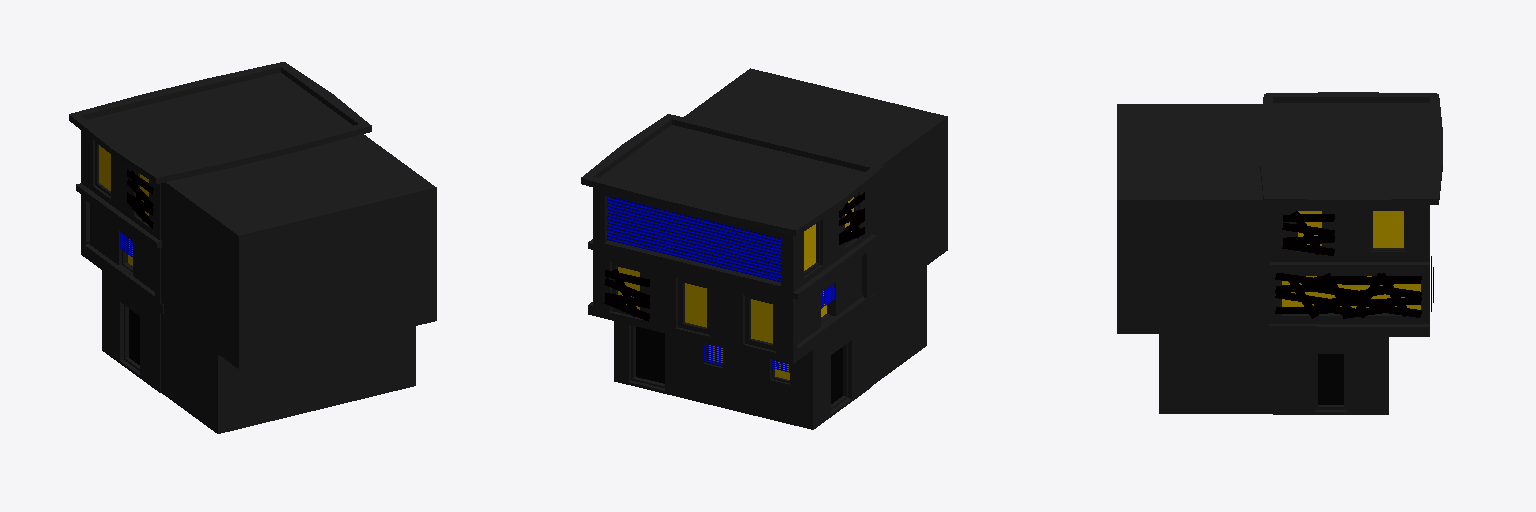
Rendered from generic-diner.obj.
3 renders of one model, left to right at view 1: azimuth 30°, elevation 25°; view 2: azimuth 150°, elevation 25°; view 3: azimuth 270°, elevation 25°, orthographic.
Visible parts, largest first — view 1: BuildingBacking.002_Cube.102, FirstHouse.002_Cube.099, Plane.047_Plane.078; view 2: FirstHouse.002_Cube.099, BuildingBacking.002_Cube.102, BigBars.002_Vert.271, Plane.046_Plane.071, Plane.047_Plane.078; view 3: BuildingBacking.002_Cube.102, FirstHouse.002_Cube.099, Plane.048_Plane.079, Plane.050_Plane.081, Plane.052_Plane.083, Plane.049_Plane.080, Plane.051_Plane.082.
Boxes of the visible parts, x1,y1,x2,y2 form: BuildingBacking.002_Cube.102: [161, 134, 436, 433]; FirstHouse.002_Cube.099: [69, 62, 371, 392]; Plane.047_Plane.078: [127, 169, 153, 228]; FirstHouse.002_Cube.099: [581, 114, 883, 429]; BuildingBacking.002_Cube.102: [684, 68, 947, 386]; BigBars.002_Vert.271: [607, 196, 780, 281]; Plane.046_Plane.071: [604, 269, 649, 321]; Plane.047_Plane.078: [839, 192, 864, 244]; BuildingBacking.002_Cube.102: [1117, 104, 1272, 413]; FirstHouse.002_Cube.099: [1260, 92, 1442, 414]; Plane.048_Plane.079: [1282, 211, 1334, 255]; Plane.050_Plane.081: [1341, 273, 1394, 318]; Plane.052_Plane.083: [1275, 273, 1327, 318]; Plane.049_Plane.080: [1369, 273, 1421, 317]; Plane.051_Plane.082: [1314, 273, 1366, 317].
Bounding box in the file's own units: 10.53 × 9.96 × 13.37.